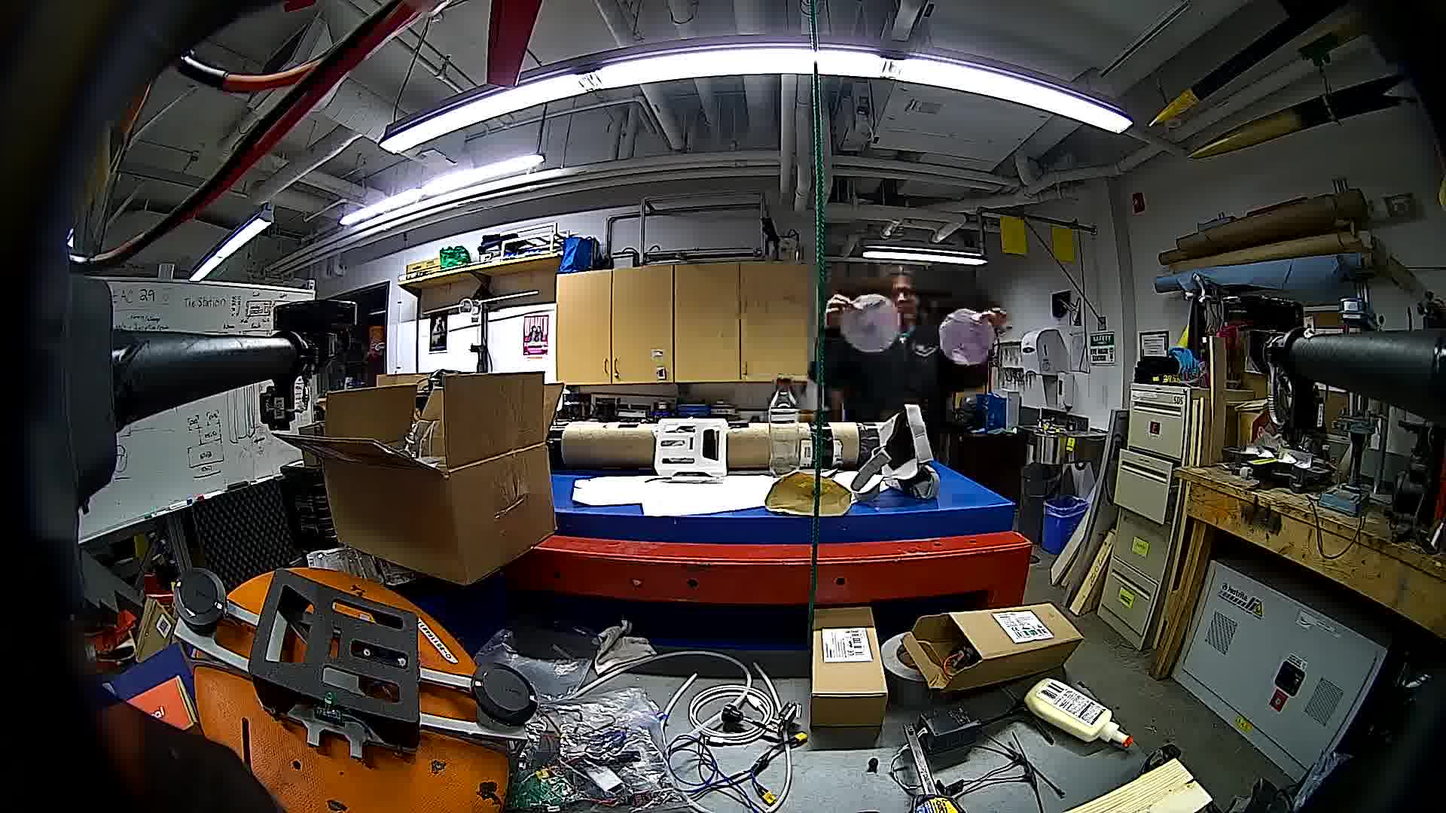Target: (843, 295, 897, 351), (942, 310, 993, 363)
